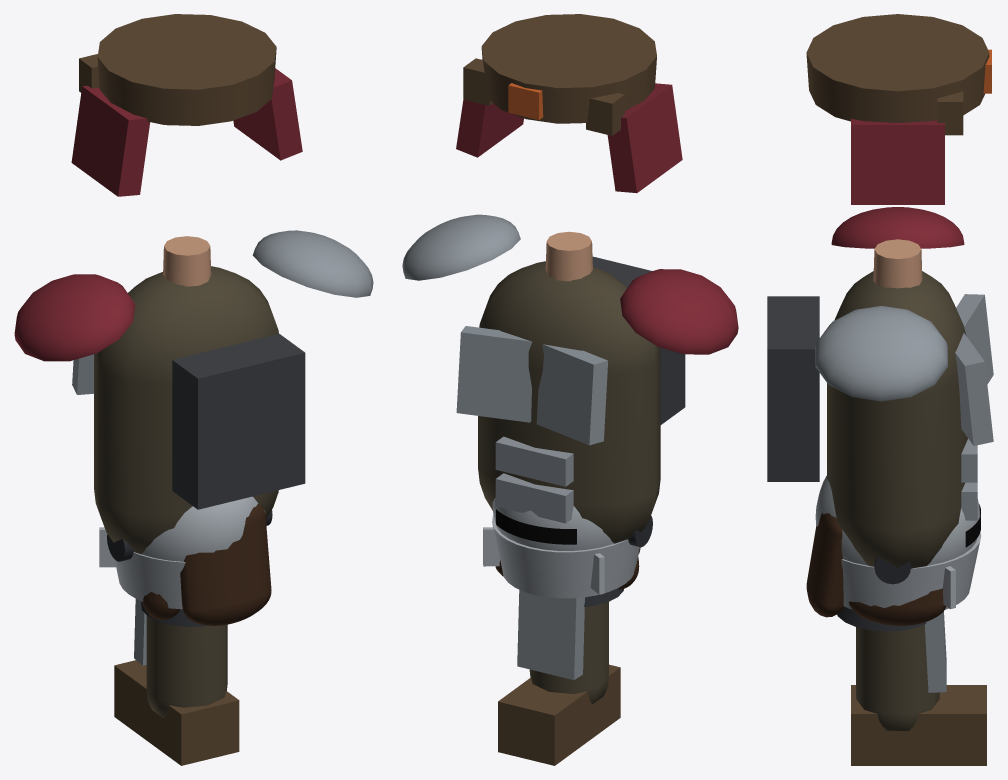
Rendered from hunter.glb.
The picture shows the model from 3 angles, left to right: view 1: azimuth 30°, elevation 25°; view 2: azimuth 150°, elevation 25°; view 3: azimuth 270°, elevation 25°; orthographic projection. The views are drawn at different scales.
Visible parts, largest first — view 1: Spine, Body, Helmet, Head, Hip_L, Knee_R, Hip_R, Knee_L; view 2: Spine, Body, Helmet, Hip_L, Knee_L, Knee_R, Hip_R; view 3: Spine, Body, Helmet, Knee_L, Head, Hip_L, Hip_R, Knee_R.
Part boxes in pixels (x1,y1,x2,y2): Spine: (14,230,373,554); Body: (71,14,302,196); Helmet: (99,496,272,626); Head: (142,504,271,625); Hip_L: (143,613,226,717); Knee_R: (114,666,239,765); Hip_R: (134,599,227,715); Knee_L: (114,660,239,765); Spine: (402,214,738,543); Body: (456,14,682,193); Helmet: (483,497,652,606); Hip_L: (517,590,608,704); Knee_L: (498,664,619,765); Knee_R: (498,667,620,765); Hip_R: (518,591,595,694); Spine: (767,207,993,568); Body: (806,14,991,204); Helmet: (815,475,981,631); Knee_L: (851,701,986,765); Head: (806,513,946,625); Hip_L: (856,612,946,729); Hip_R: (856,611,946,730); Knee_R: (851,685,986,706).
Bounding box in the file's own units: 0.7431 × 1.47 × 0.4332.
